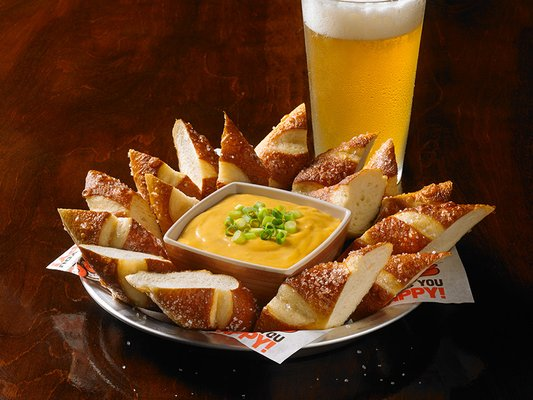sushi: (163, 181, 352, 294)
